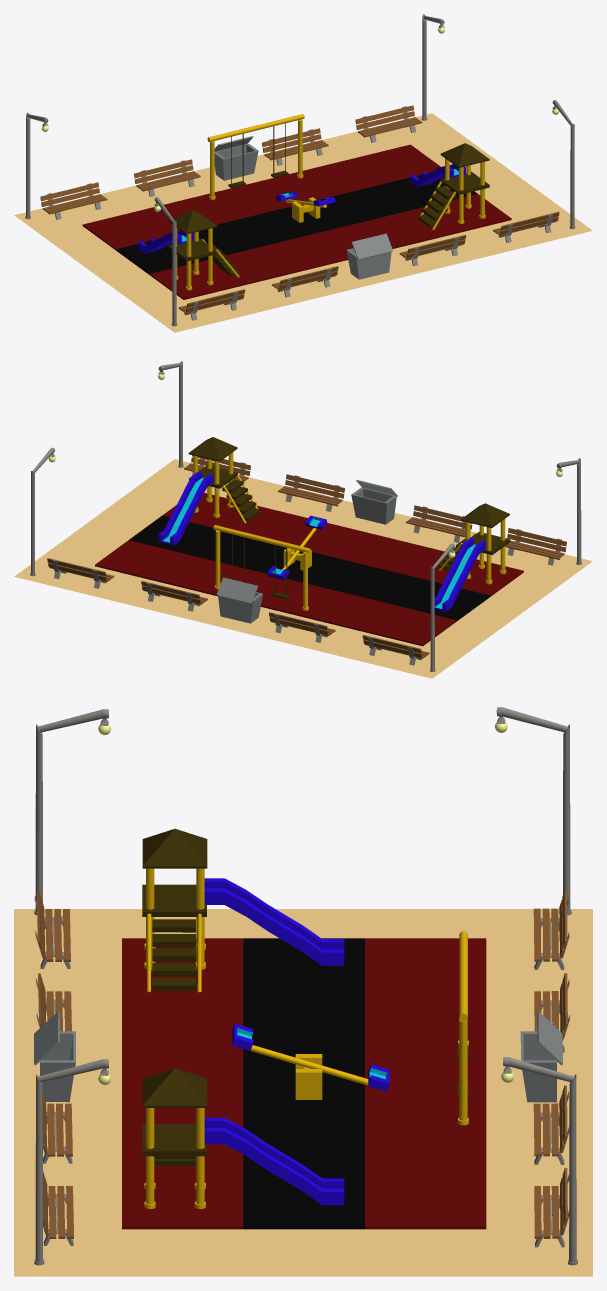
File: park.fbx
The picture shows the model from 3 angles, top to bottom: view 1: azimuth 30°, elevation 25°; view 2: azimuth 150°, elevation 25°; view 3: azimuth 270°, elevation 25°; orthographic projection. The views are drawn at different scales.
Parts seen in each view (by area): view 1: park; view 2: park; view 3: park.
Part boxes in pixels (x1,y1,x2,y2): park: (14,14,592,332); park: (14,361,592,678); park: (14,707,592,1276).
Size of the model in its own units: 294 by 76.85 by 195.
